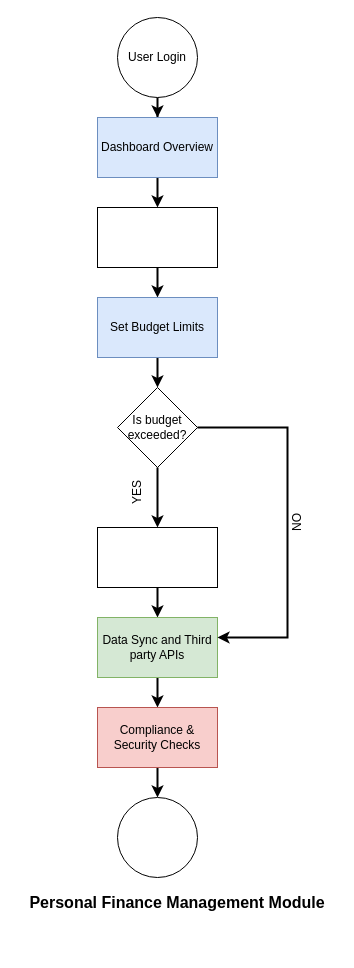
Image size: 354x968. Some labels were removed from this diagram. Each missing label, with the box of its shape:
End: (116, 796, 198, 878)
Receive Budget Notifications: (96, 526, 218, 588)
View Spending Analytics: (96, 206, 218, 268)
